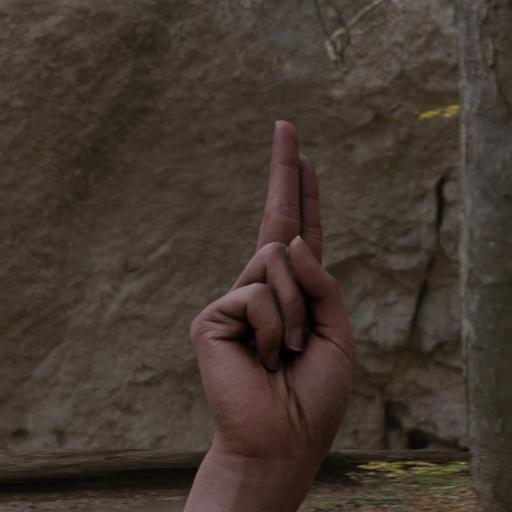U: (181, 111, 372, 504)
